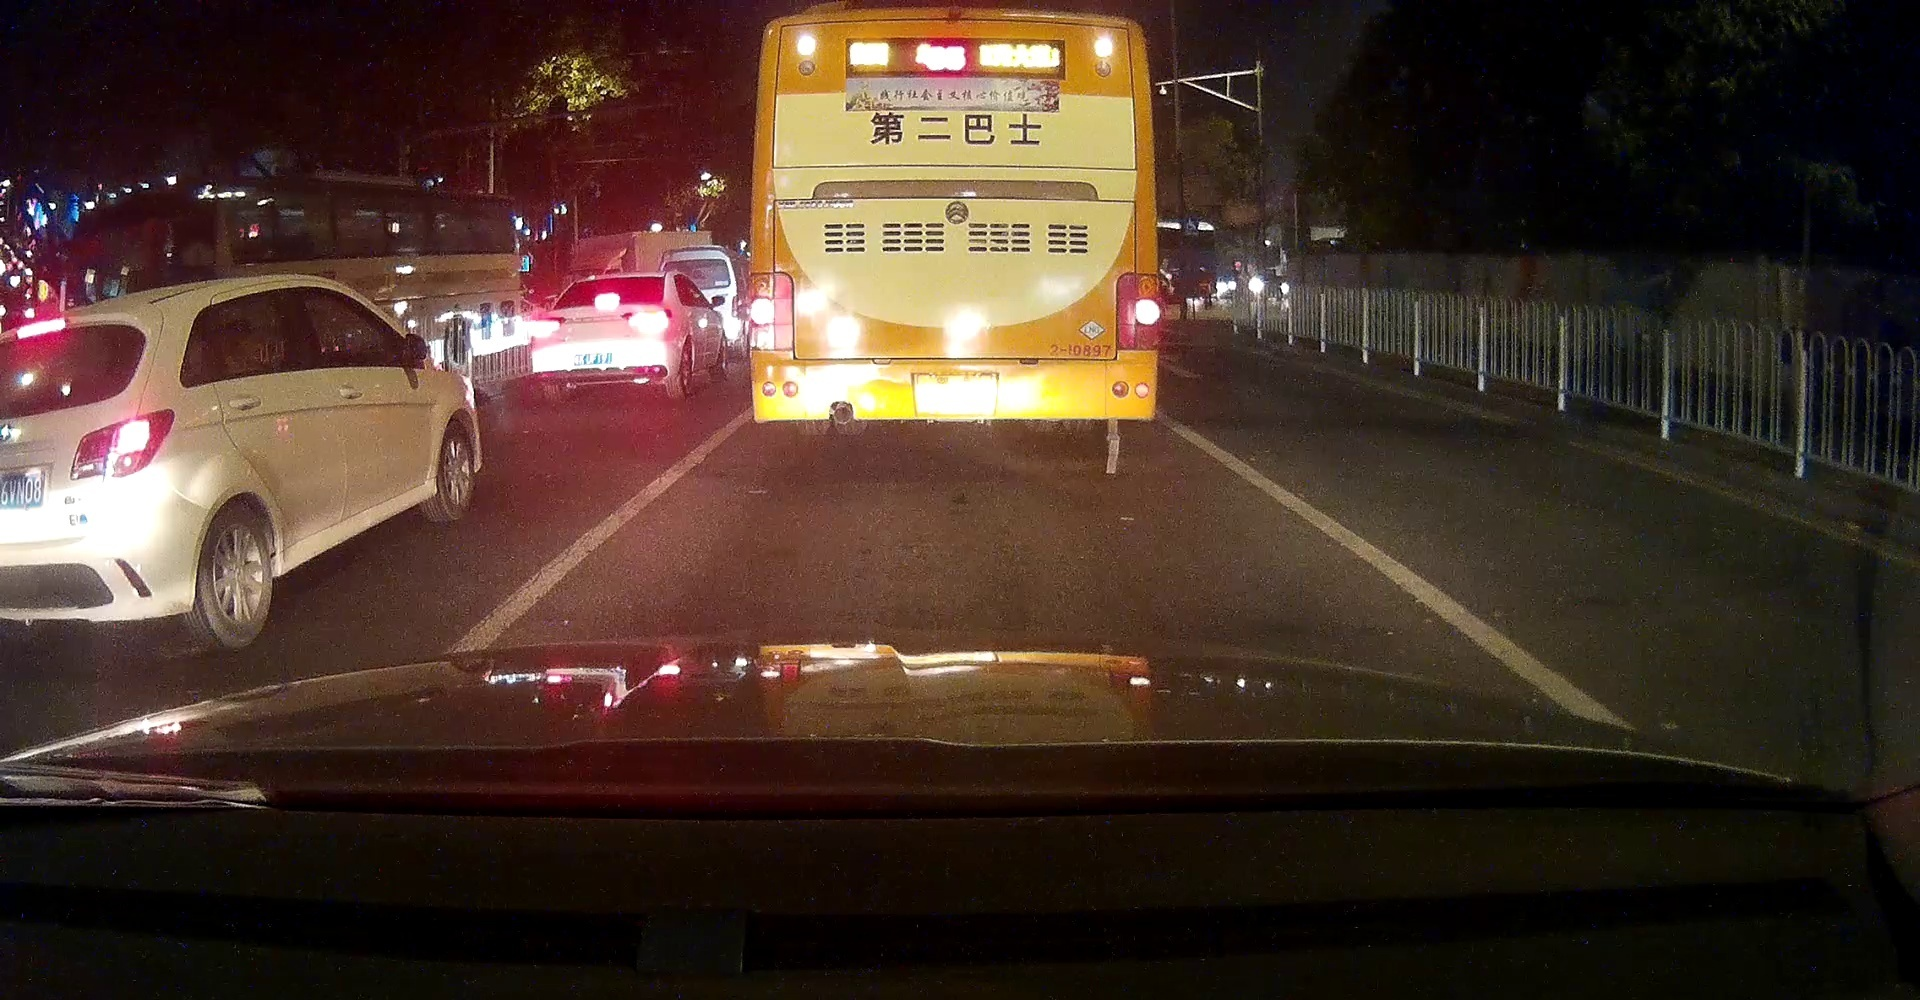L_light: (748, 272, 794, 352)
R_light: (1116, 272, 1161, 350)
T_light: (928, 19, 974, 30)
night-brake: (531, 274, 674, 400), (621, 308, 672, 330), (531, 316, 566, 339), (594, 292, 620, 311)
night-no: (747, 5, 1163, 461)
